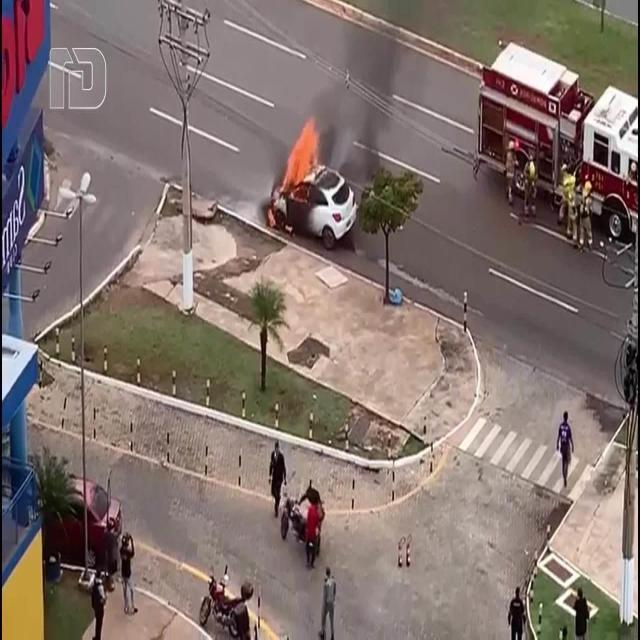Fire: (280, 118, 324, 190), (266, 208, 278, 228)
Smoke: (322, 12, 417, 159)
